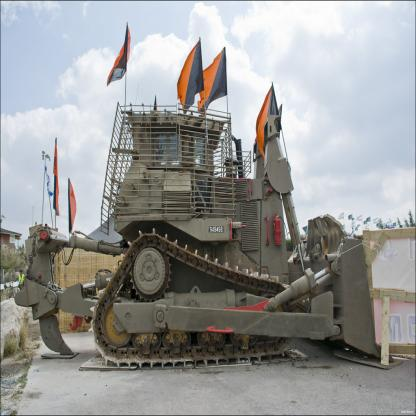bull_dozer/loader/grader: (20, 61, 413, 374)
